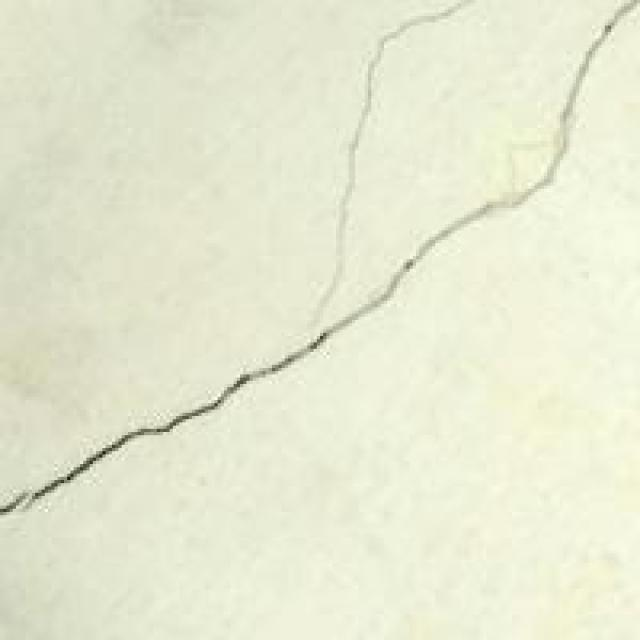crack: (0, 45, 595, 566)
